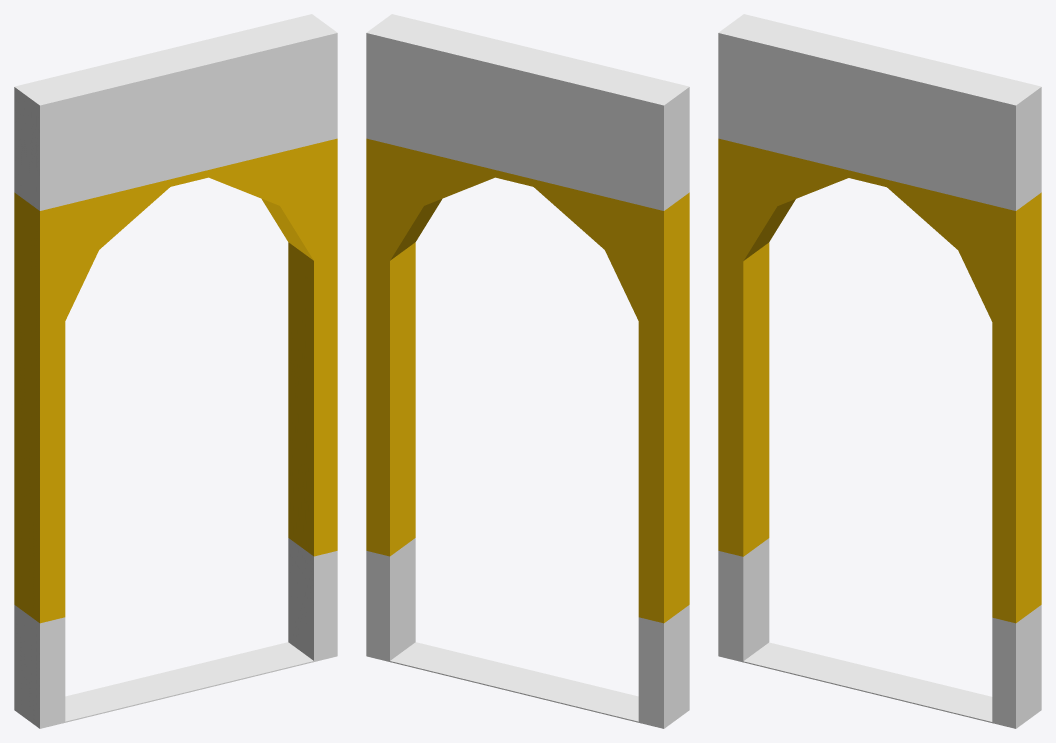
Rendered from TwoColouredDoorframe.glb.
3 views of the same model, side by side, from view 1: azimuth 30°, elevation 25°; view 2: azimuth 150°, elevation 25°; view 3: azimuth 330°, elevation 25° (orthographic).
Parts seen in each view (by area): view 1: wall_twoCol_door; view 2: wall_twoCol_door; view 3: wall_twoCol_door.
Part boxes in pixels (x1,y1,x2,y2): wall_twoCol_door: (14, 14, 337, 728); wall_twoCol_door: (366, 14, 689, 728); wall_twoCol_door: (718, 14, 1041, 728).
Size of what is drawn, in the model's own units: 2 by 4 by 0.3.
1 material, 1 textured.
